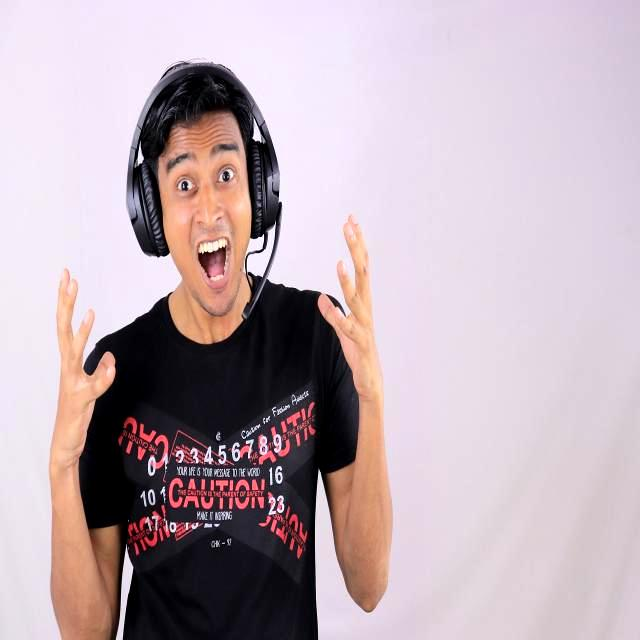no_hard_hat: (126, 60, 282, 318)
no_head_wear: (140, 75, 254, 167)
person: (48, 111, 392, 639), (136, 518, 316, 637)
